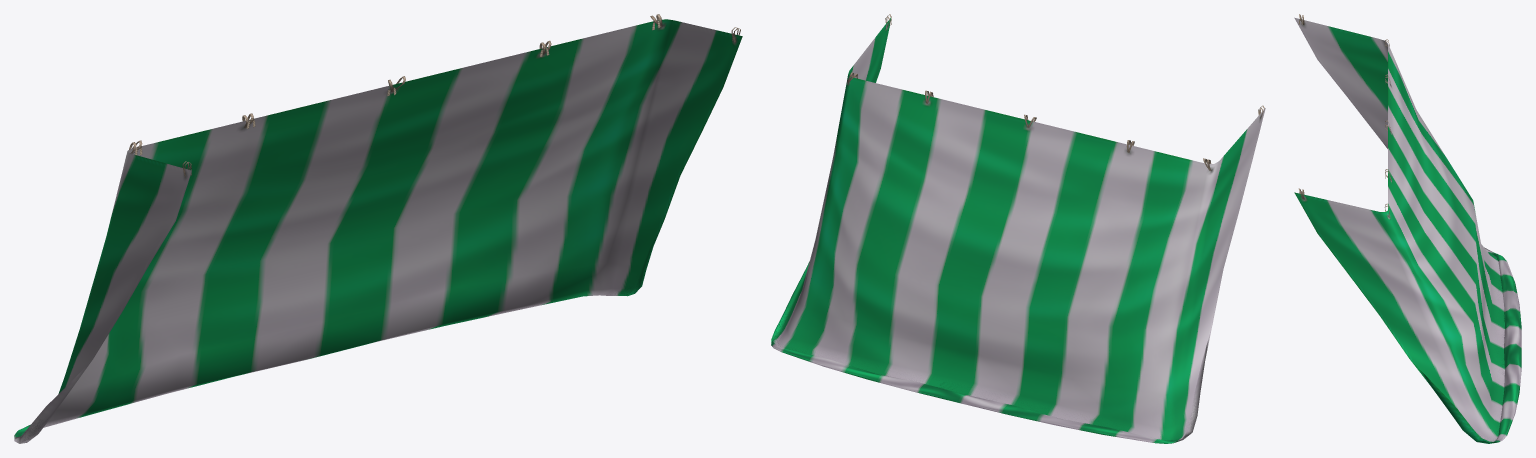
The model's file is jsf_BackSide_s03_c05_t02.fbx.
3 views of the same model, side by side, from view 1: azimuth 30°, elevation 25°; view 2: azimuth 150°, elevation 25°; view 3: azimuth 270°, elevation 25° (orthographic). The views are drawn at different scales.
Visible parts, largest first — view 1: jsf_BackSide_s03_c05_t02; view 2: jsf_BackSide_s03_c05_t02; view 3: jsf_BackSide_s03_c05_t02.
Part boxes in pixels (x1=…): jsf_BackSide_s03_c05_t02: x1=14, y1=14, x2=742, y2=443; jsf_BackSide_s03_c05_t02: x1=771, y1=14, x2=1265, y2=443; jsf_BackSide_s03_c05_t02: x1=1294, y1=14, x2=1521, y2=443.
Size of the model in its own units: 348 by 205 by 171.
